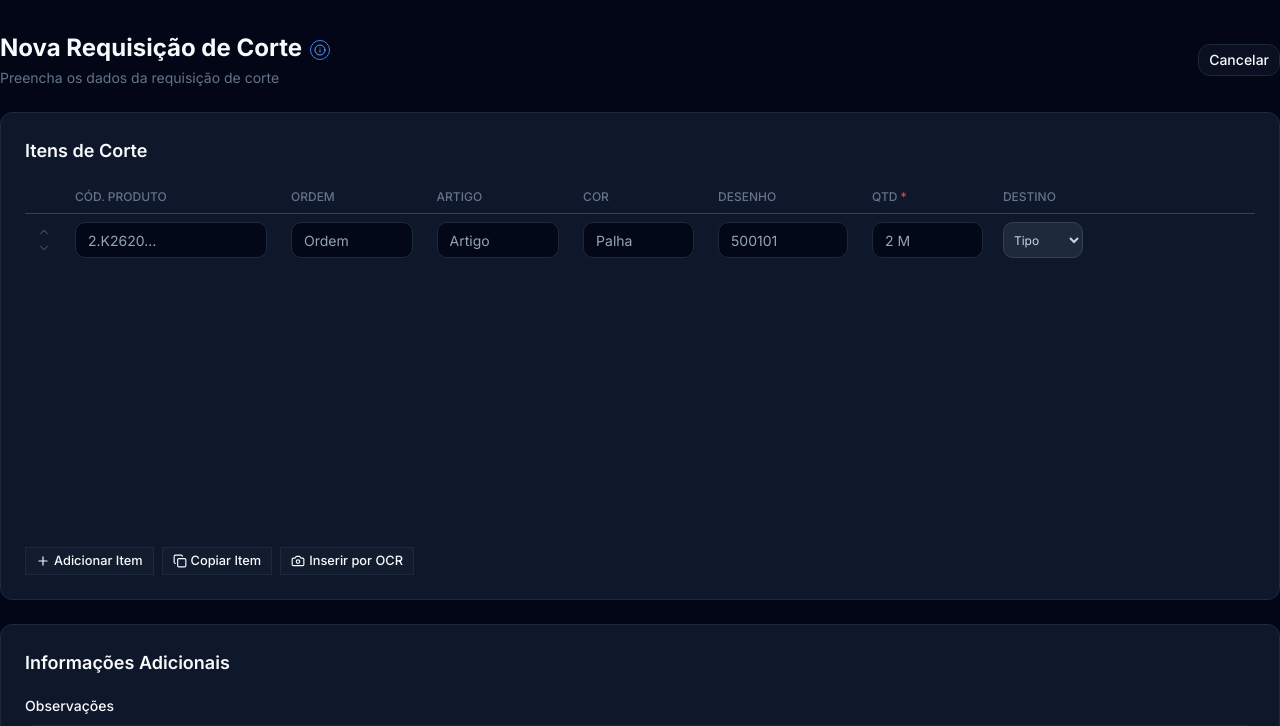
Test: NovaRequisicaoCortePage › copia o último item ao usar Copiar Item
In the field with placeholder "2.K2620...": (171,240) x1=75 y1=222 x2=267 y2=258, type "2.K2620.001"
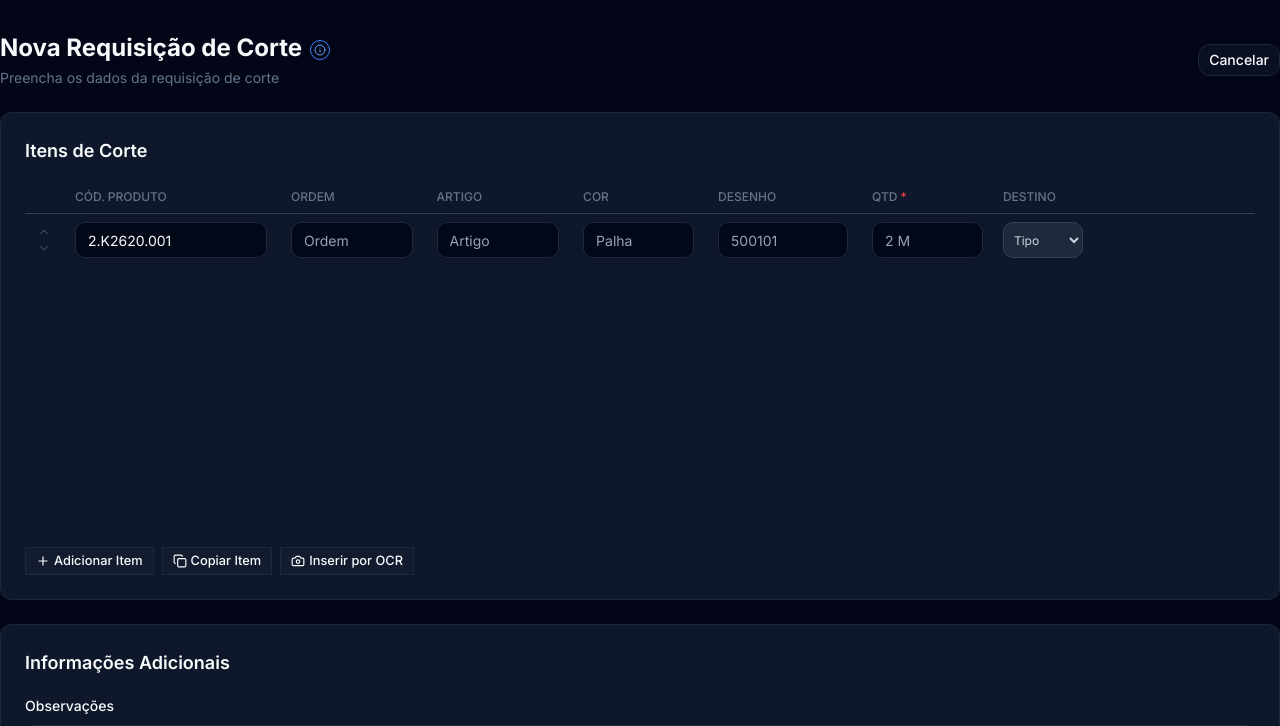
In the field with placeholder "2 M": (927,240) x1=872 y1=222 x2=983 y2=258, type "5 M"
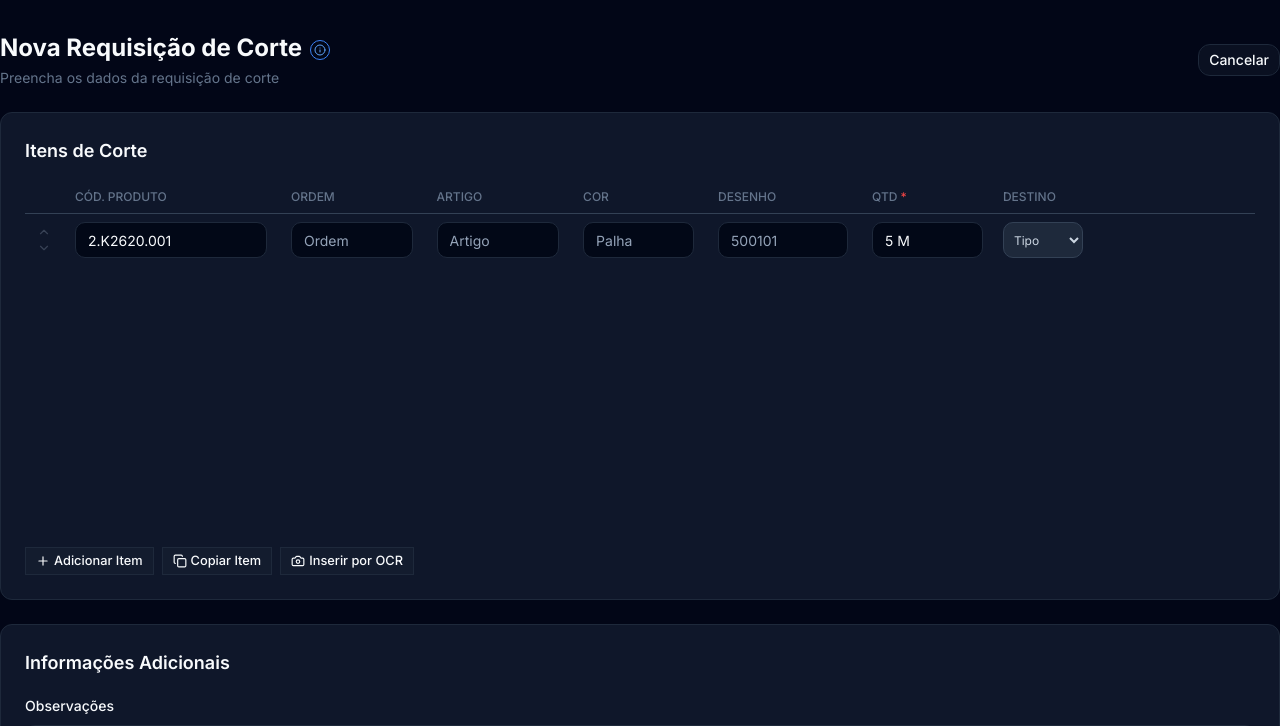
Click the button "Copiar Item": (217,561) x1=162 y1=547 x2=272 y2=575
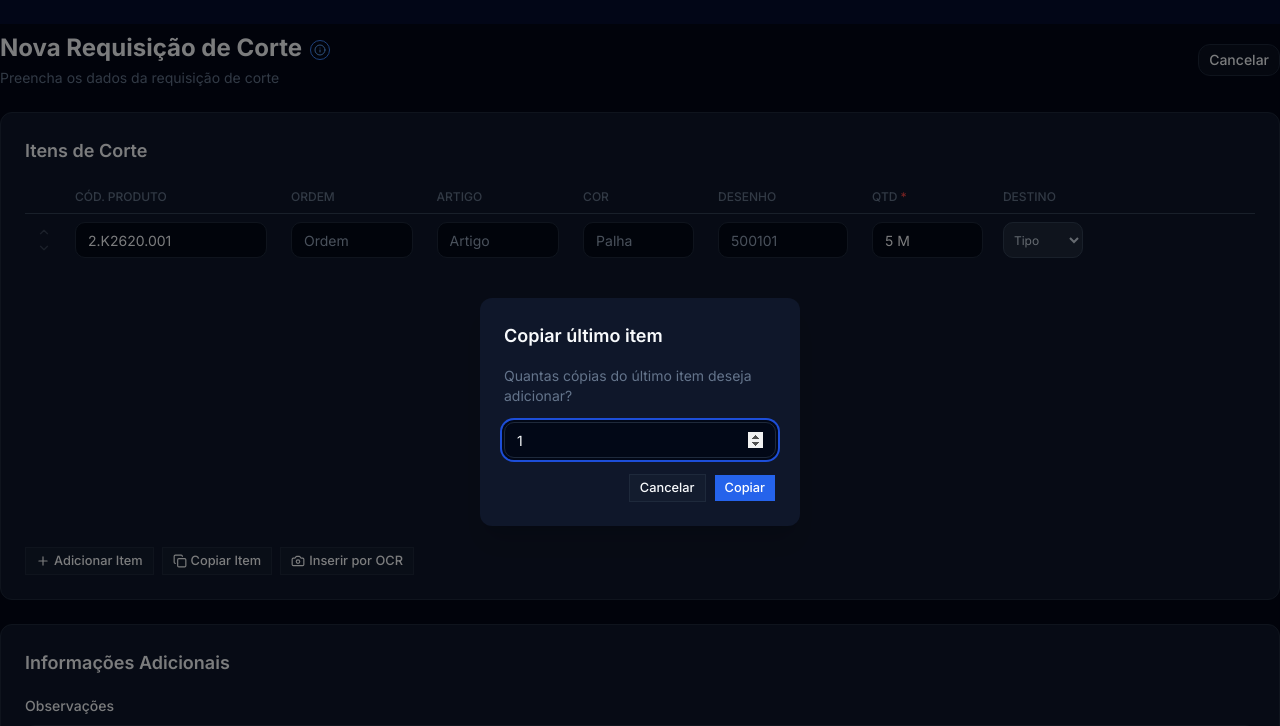
Check: the text "Copiar último item" is shown, box x1=504 y1=325 x2=663 y2=346
Check: the number field holds "1"
Replace the text in the number field with "2": (640,440) x1=504 y1=422 x2=776 y2=458
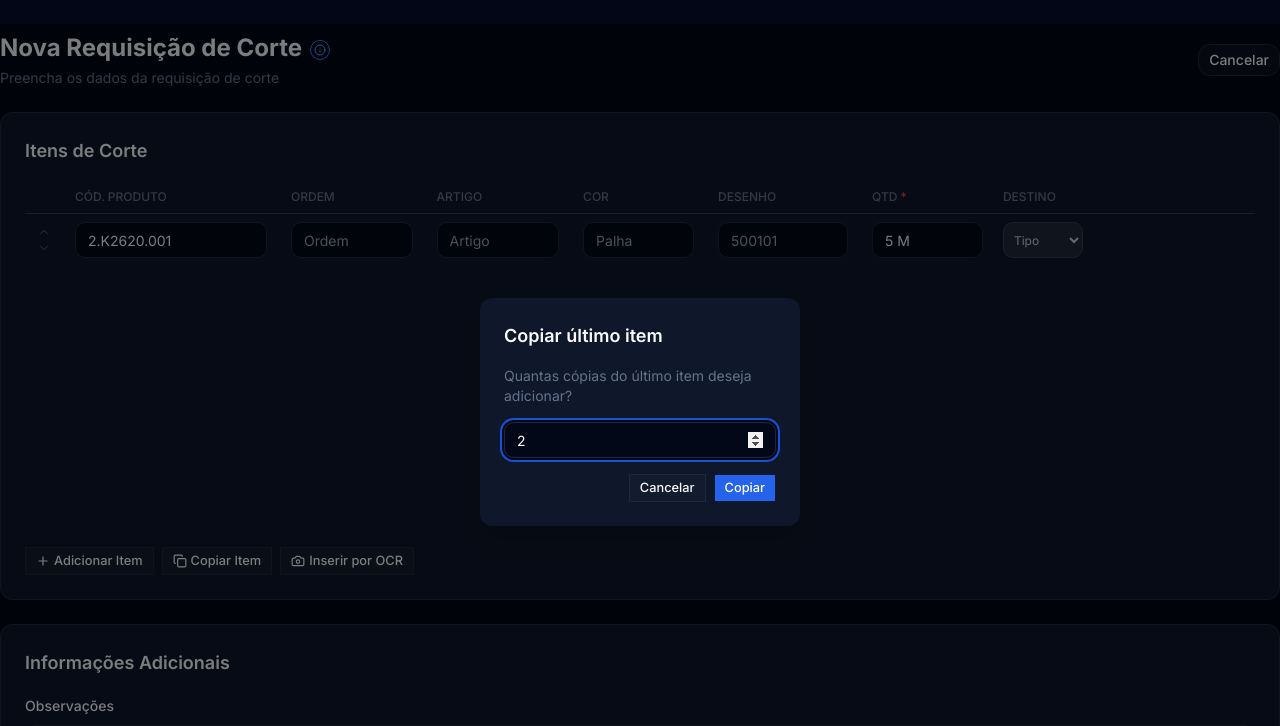
Click the button "Copiar": (745,488) x1=714 y1=474 x2=776 y2=502
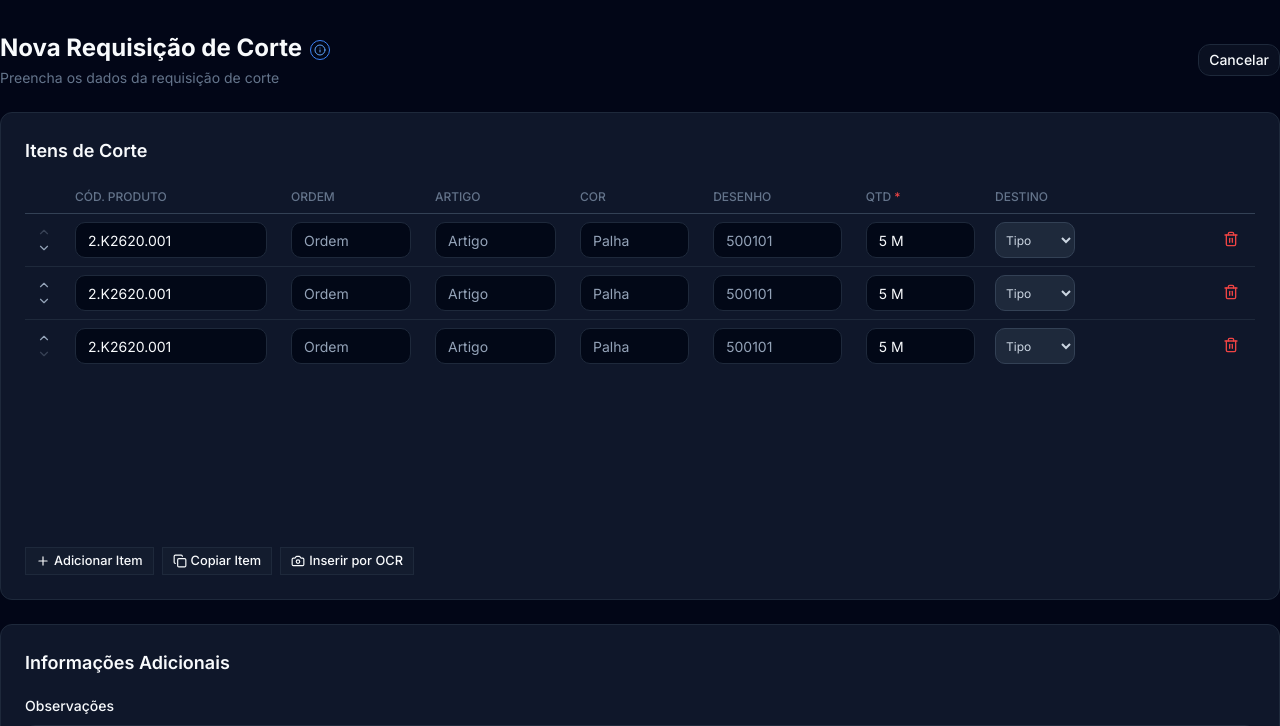
Check: the number of fields with placeholder "2.K2620..." is 3, box x1=75 y1=222 x2=267 y2=258; x1=75 y1=275 x2=267 y2=311; x1=75 y1=328 x2=267 y2=364
